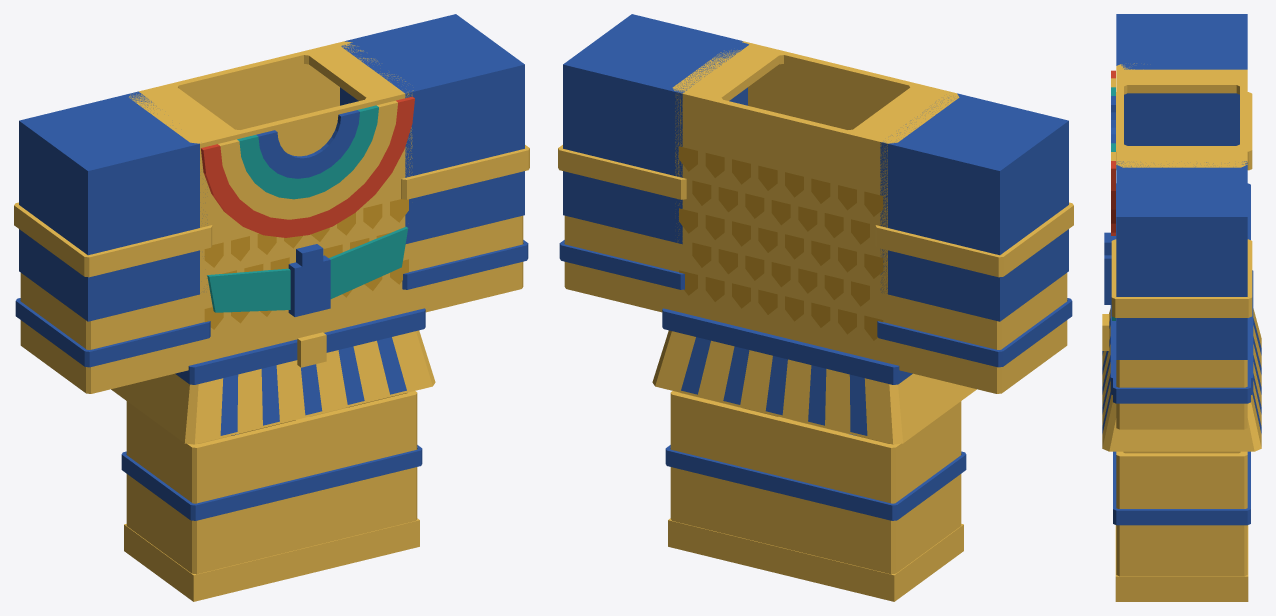
File: w4_armor_sunking.fbx
3 renders of one model, left to right at view 1: azimuth 30°, elevation 25°; view 2: azimuth 150°, elevation 25°; view 3: azimuth 270°, elevation 25°, orthographic. The views are drawn at different scales.
Parts seen in each view (by area): view 1: SunKing.SleeveR, SunKing.Cuirass, SunKing.SleeveL, SunKing.GreaveR, SunKing.GreaveL, SunKing.Kilt, SunKing.BracerR, SunKing.BracerL, SunKing.Wings, SunKing.CollarRed, SunKing.CollarGold, SunKing.SandalR (+14 smaller); view 2: SunKing.Cuirass, SunKing.SleeveR, SunKing.SleeveL, SunKing.GreaveR, SunKing.Scales, SunKing.GreaveL, SunKing.Kilt, SunKing.BracerR, SunKing.BracerL, SunKing.Belt, SunKing.SandalR, SunKing.KiltStripes (+7 smaller); view 3: SunKing.SleeveL, SunKing.GreaveL, SunKing.SleeveR, SunKing.BracerL, SunKing.Cuirass, SunKing.Kilt, SunKing.SandalL, SunKing.ArmletL, SunKing.BracerBandL, SunKing.GreaveBandL, SunKing.KiltStripes, SunKing.Belt (+7 smaller).
Boxes of the visible parts, box(x1,y1,x2,y2) form: SunKing.SleeveR: box(19, 91, 207, 321); SunKing.Cuirass: box(129, 41, 413, 361); SunKing.SleeveL: box(340, 14, 524, 243); SunKing.GreaveR: box(126, 401, 310, 574); SunKing.GreaveL: box(239, 391, 417, 548); SunKing.Kilt: box(111, 330, 435, 444); SunKing.BracerR: box(20, 273, 204, 393); SunKing.BracerL: box(408, 215, 523, 312); SunKing.Wings: box(207, 226, 408, 312); SunKing.CollarRed: box(201, 96, 414, 237); SunKing.CollarGold: box(218, 100, 397, 219); SunKing.SandalR: box(124, 524, 312, 601); SunKing.Cuirass: box(672, 41, 959, 362); SunKing.SleeveR: box(880, 93, 1068, 321); SunKing.SleeveL: box(563, 14, 748, 244); SunKing.GreaveR: box(776, 401, 961, 574); SunKing.Scales: box(679, 146, 883, 340); SunKing.GreaveL: box(670, 391, 848, 548); SunKing.Kilt: box(652, 330, 976, 444); SunKing.BracerR: box(883, 273, 1067, 393); SunKing.BracerL: box(564, 215, 679, 312); SunKing.Belt: box(662, 308, 912, 384); SunKing.SandalR: box(775, 524, 963, 601); SunKing.KiltStripes: box(681, 337, 867, 435); SunKing.SleeveL: box(1116, 161, 1247, 359); SunKing.GreaveL: box(1116, 451, 1247, 576); SunKing.SleeveR: box(1116, 14, 1247, 145); SunKing.BracerL: box(1116, 360, 1247, 429); SunKing.Cuirass: box(1116, 63, 1247, 167); SunKing.Kilt: box(1102, 308, 1261, 451); SunKing.SandalL: box(1115, 525, 1248, 601); SunKing.ArmletL: box(1111, 239, 1252, 317); SunKing.BracerBandL: box(1113, 331, 1250, 403); SunKing.GreaveBandL: box(1113, 452, 1250, 525); SunKing.KiltStripes: box(1102, 318, 1261, 433); SunKing.Belt: box(1110, 270, 1253, 394).
Bounding box in the file's own units: 4.21 × 4.12 × 1.37.
